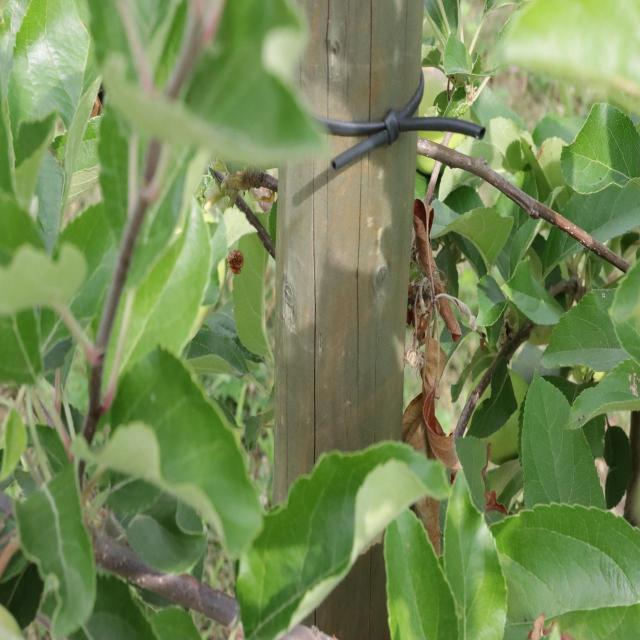-FireBlight-: (413, 188, 464, 501)
